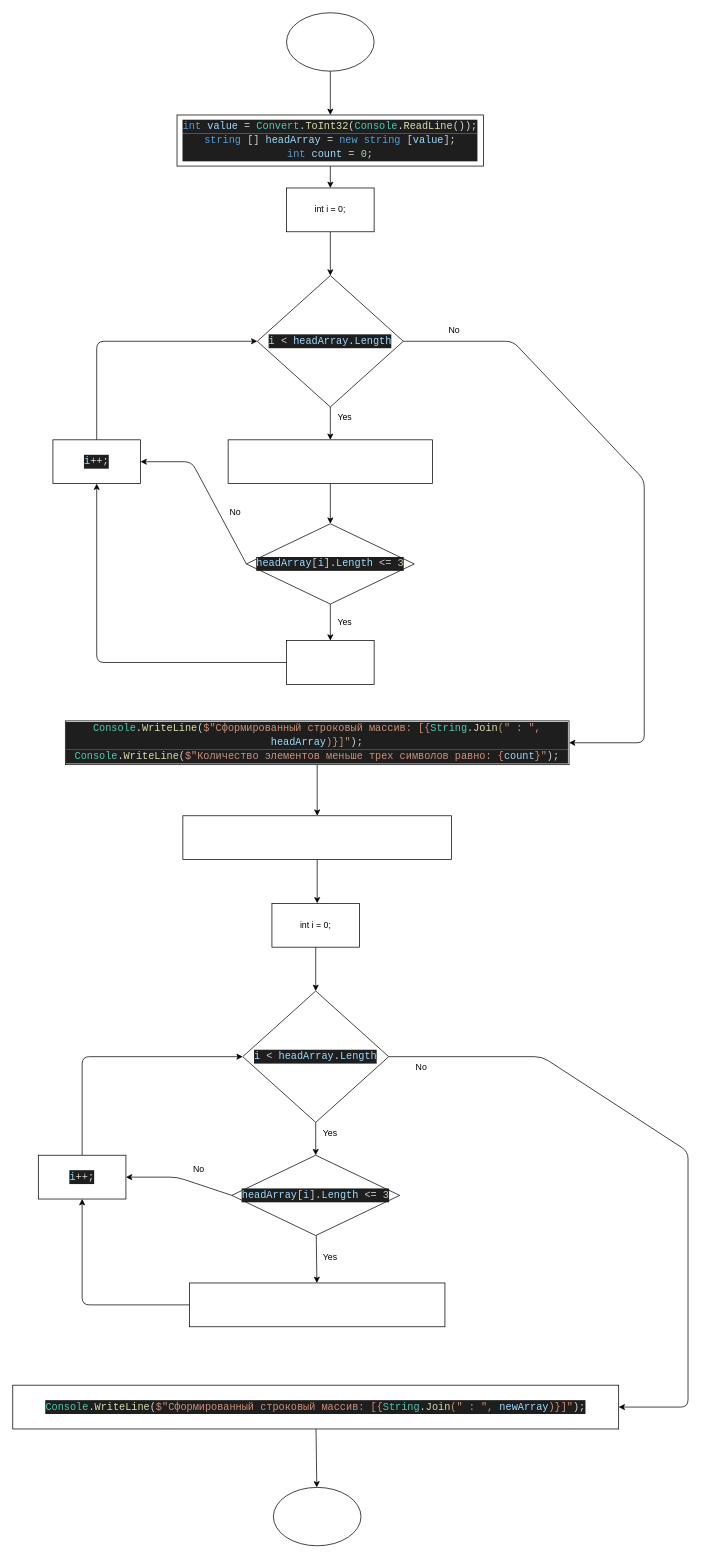
Some shapes in this 707 by 1559 pixel diagram are drawn without their labels. Each missing label, with the centre of its shape:
"count ++;" goes at (330,662).
"End programm" goes at (317,1516).
"headArray [ i ] = Console . ReadLine ();" goes at (330,461).
"newArray [ j ] = headArray [ i ]; j ++;" goes at (317,1304).
"Start programm" goes at (330,41).
"string [] newArray = new string [ count ]; int j = 0 ;" goes at (317,837).
